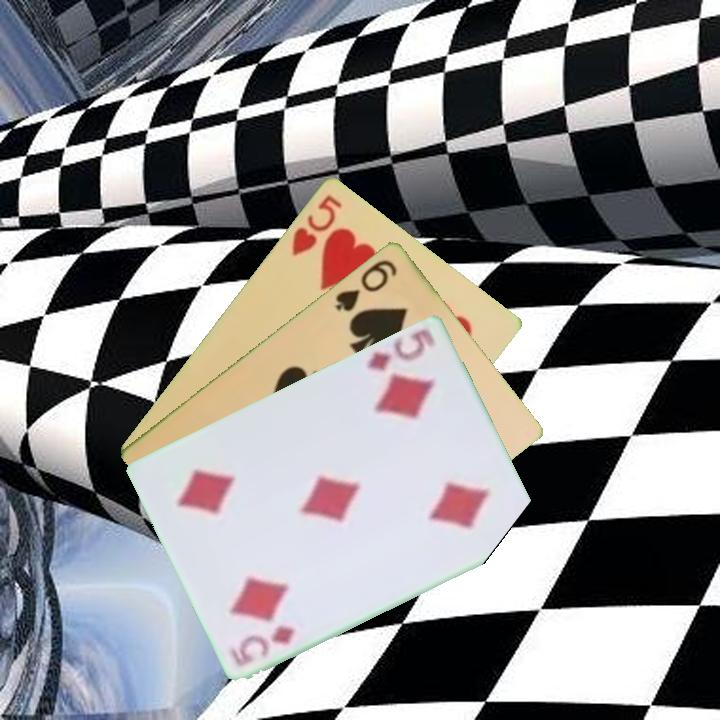5d: (363, 324, 439, 374), (240, 621, 298, 661)
5h: (288, 191, 345, 259)
6s: (332, 255, 400, 314)
